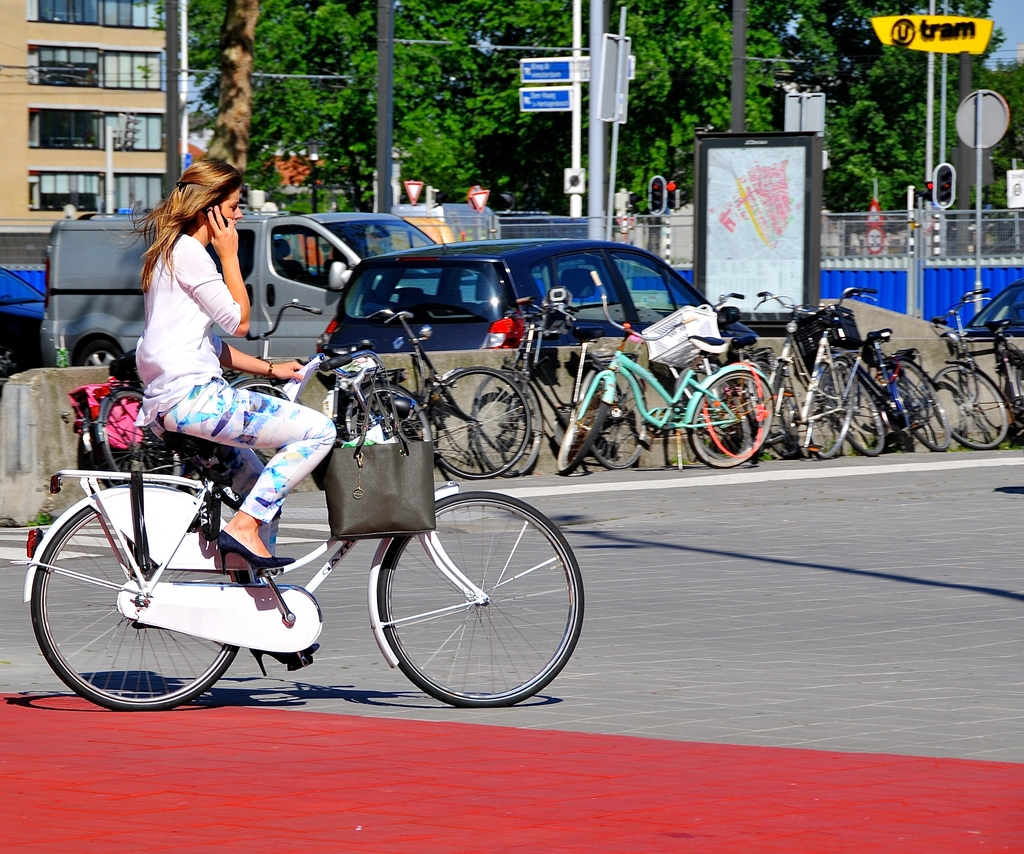Bike: (30, 416, 609, 730)
